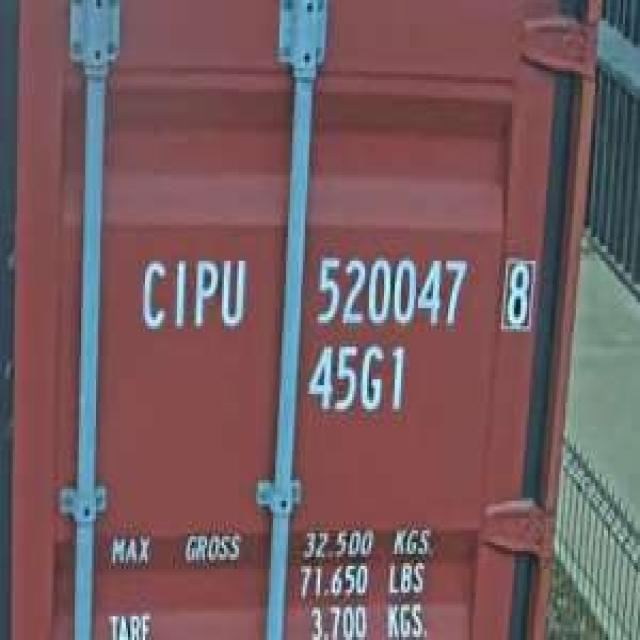dv: (495, 246, 538, 335)
owner: (132, 246, 250, 341)
serial: (309, 246, 472, 332)
size: (300, 335, 410, 421)
